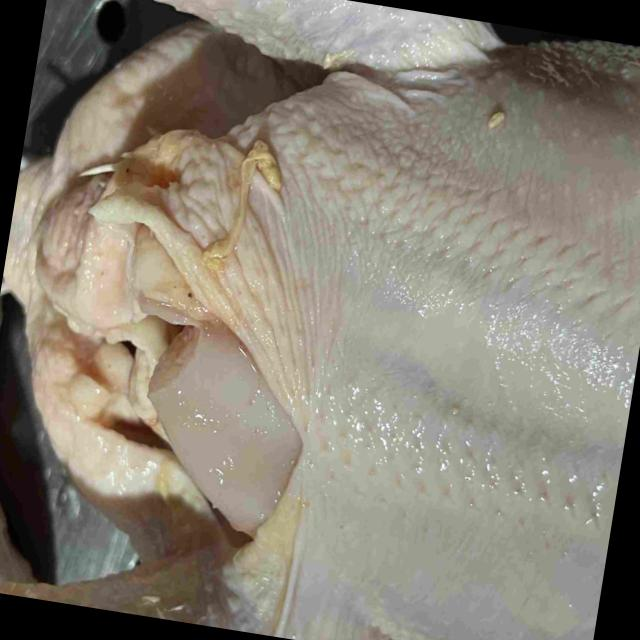breast: (165, 64, 640, 640)
leg: (0, 527, 389, 640), (160, 0, 511, 84)
